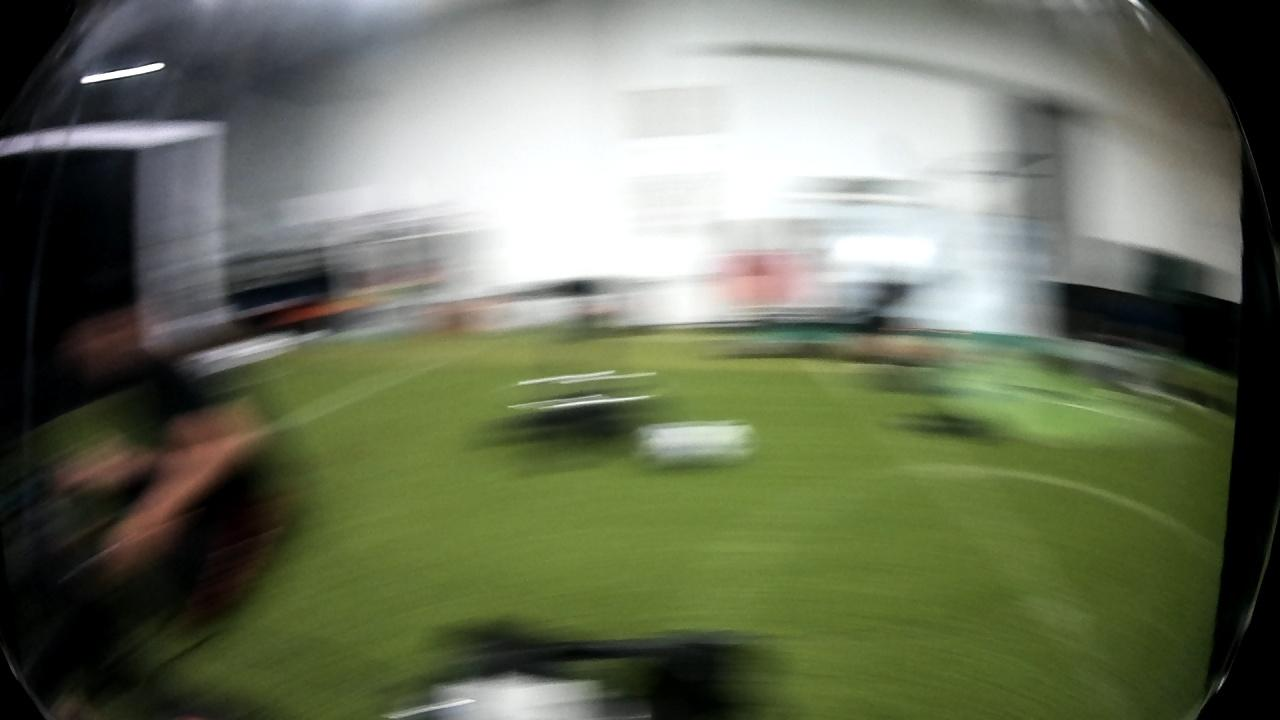ball: (628, 419, 764, 479)
